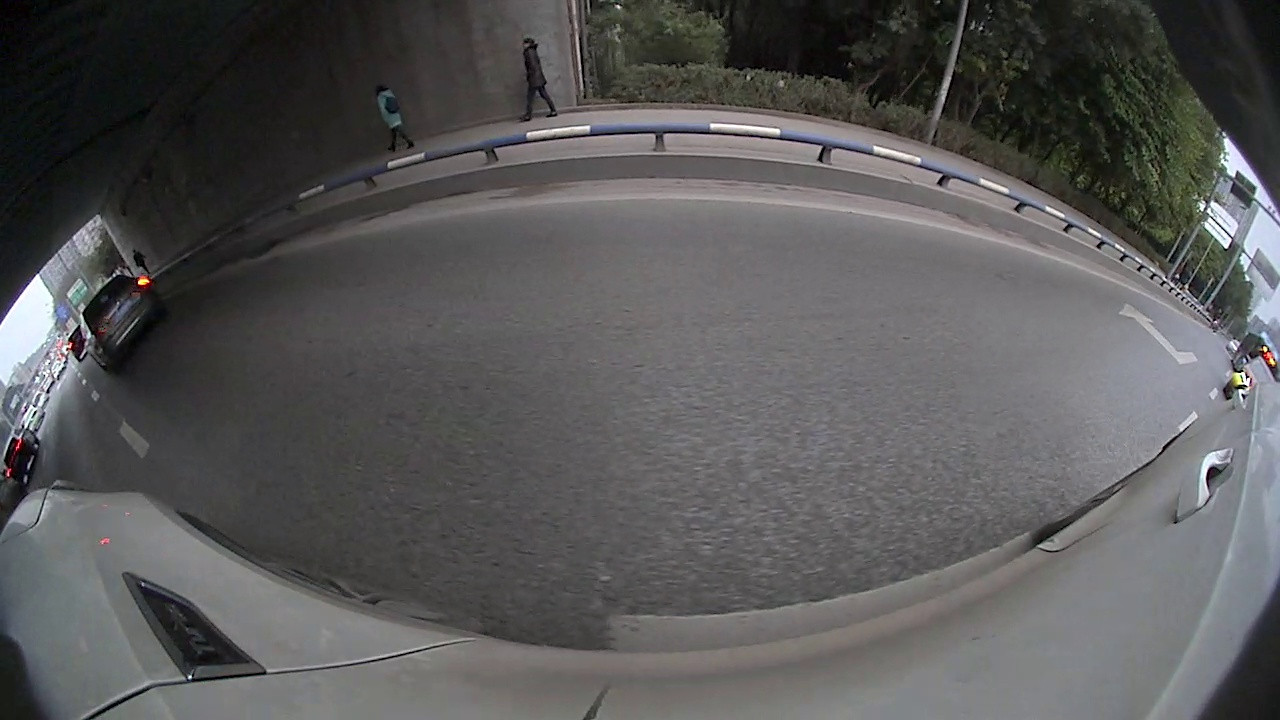car: (86, 162, 253, 303), (208, 106, 380, 186), (991, 155, 1085, 263), (1177, 347, 1247, 447), (1, 321, 62, 403), (1138, 288, 1191, 353)
front: (136, 262, 171, 298), (300, 139, 326, 173), (1059, 242, 1081, 263)
rear: (102, 277, 132, 304), (1028, 222, 1050, 248)
